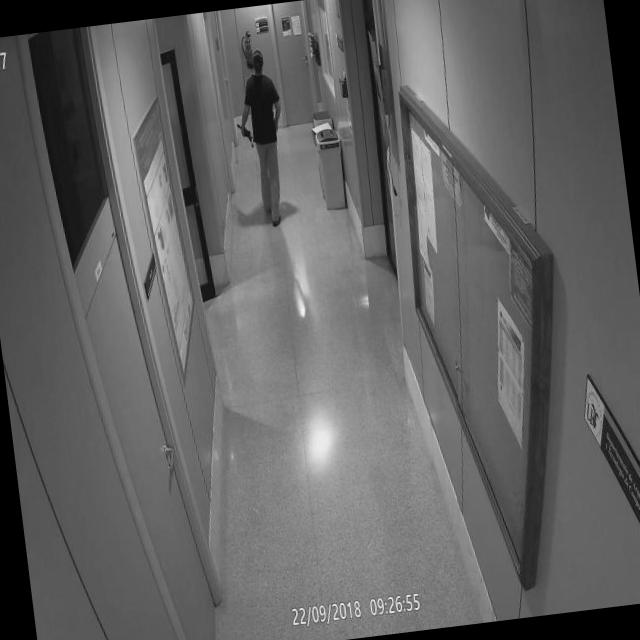person with a gun: (228, 44, 294, 234), (229, 120, 258, 154)
